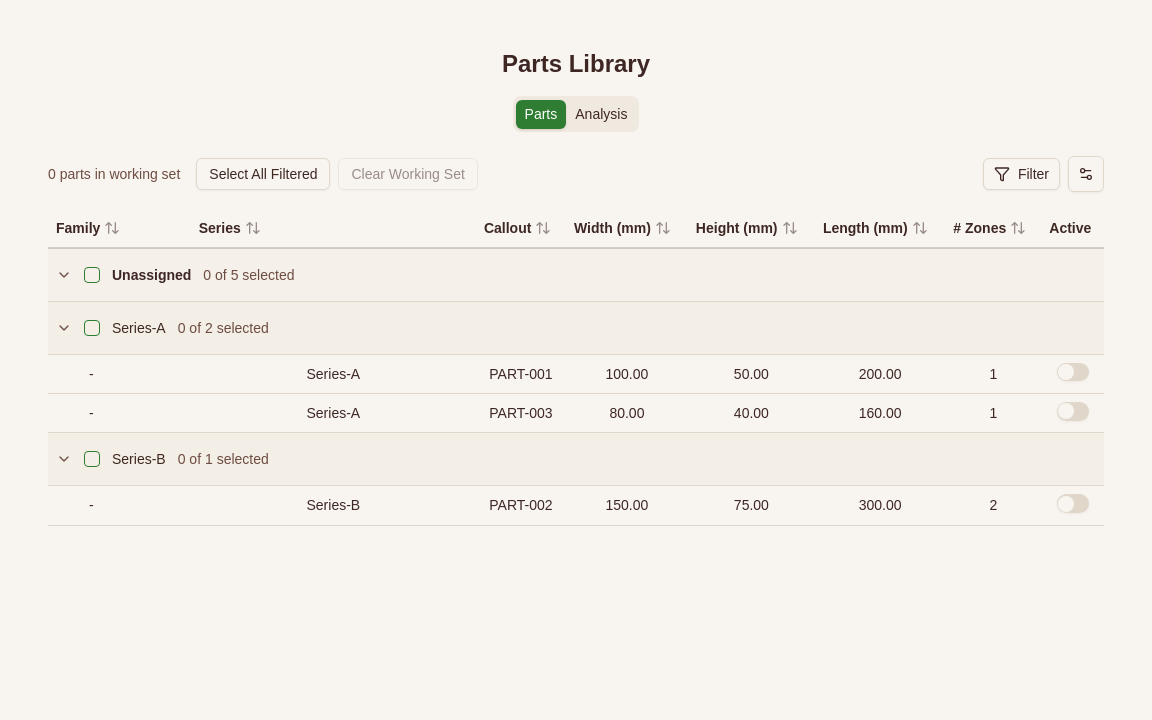
Test: Parts Library Page › AC-2.7.4: Row Click Opens Detail Side Panel › opens detail panel when row is clicked
Click on the first part row
Click the text "PART-001".
click(521, 374)  # box top-left (476, 354), bottom-right (566, 394)
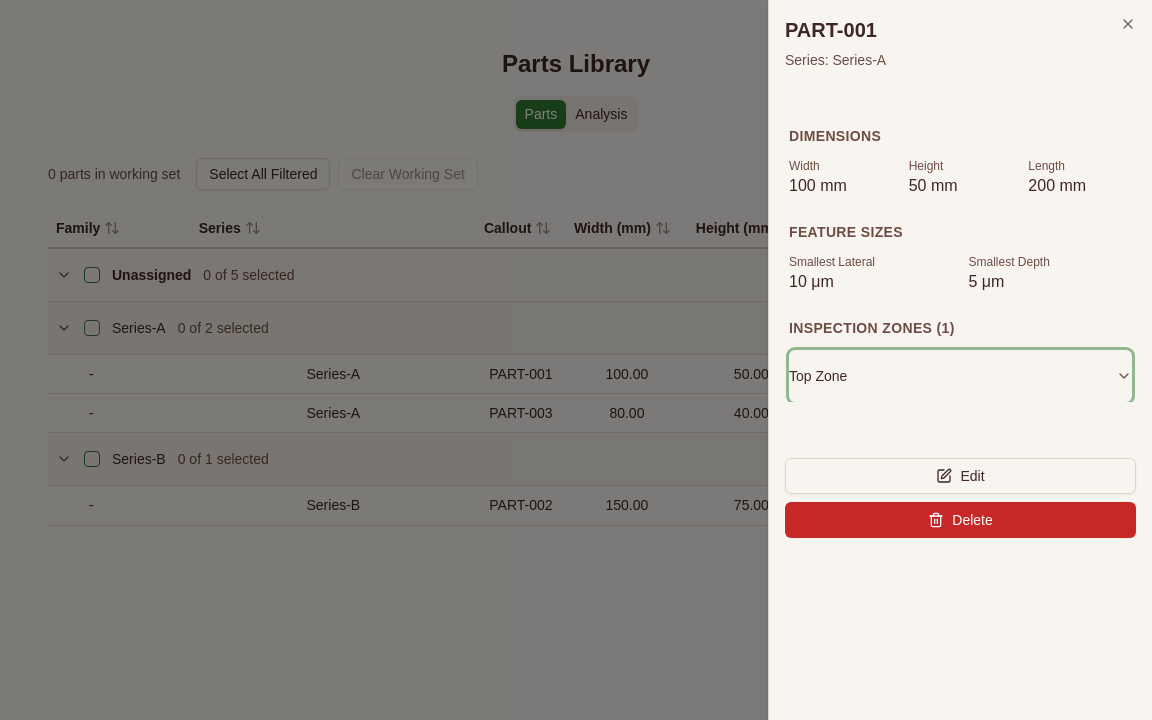
expect the text "Series: Series-A" is shown: met, box top-left (785, 52), bottom-right (886, 68)
expect the heading "Dimensions" is shown: met, box top-left (789, 128), bottom-right (881, 144)
